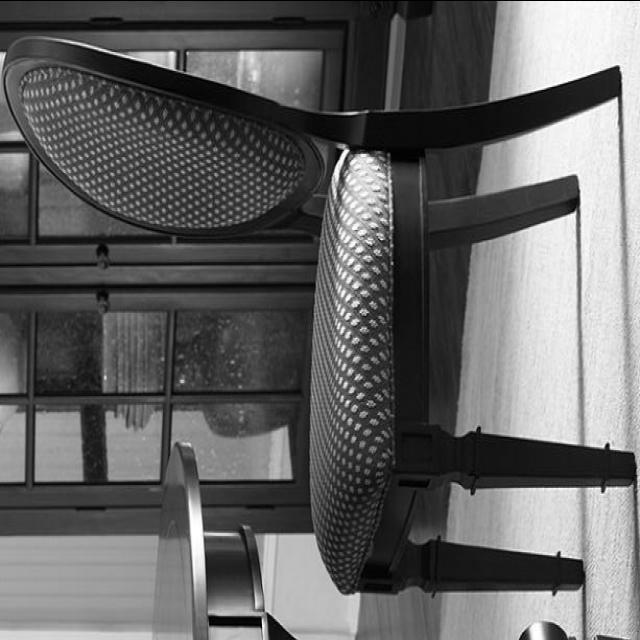chair: (0, 28, 634, 601)
